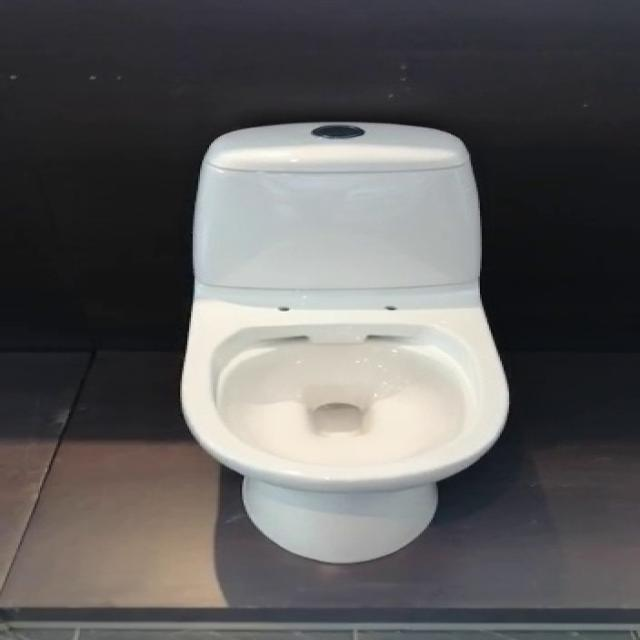toilet: (178, 120, 511, 563)
